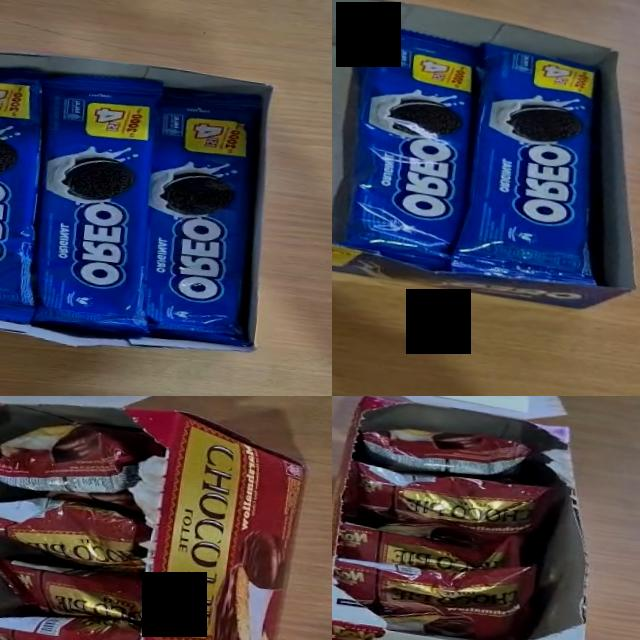Chocopie: (342, 459, 558, 556), (332, 541, 538, 640), (0, 406, 167, 503), (0, 486, 152, 573), (335, 514, 527, 581), (356, 419, 534, 483), (0, 550, 147, 624), (0, 601, 141, 640)
Oreo: (10, 65, 182, 342), (446, 41, 624, 290), (128, 82, 281, 350), (332, 20, 489, 275), (0, 57, 62, 324)
